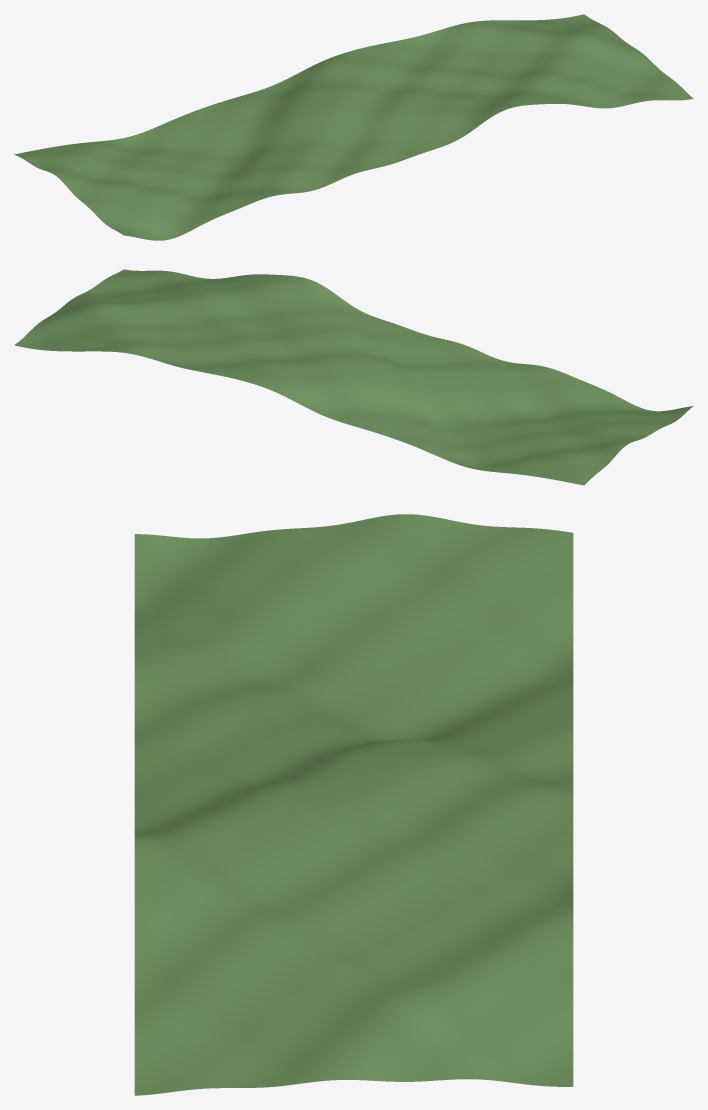
File: terrain.glb
3 renders of one model, top to bottom at view 1: azimuth 30°, elevation 25°; view 2: azimuth 150°, elevation 25°; view 3: azimuth 270°, elevation 25°, orthographic. The views are drawn at different scales.
Parts seen in each view (by area): view 1: terrain; view 2: terrain; view 3: terrain.
Boxes of the visible parts, x1,y1,x2,y2 form: terrain: [14, 14, 693, 240]; terrain: [14, 269, 693, 485]; terrain: [134, 514, 573, 1095].
Bounding box in the file's own units: 240 × 19.39 × 80.
